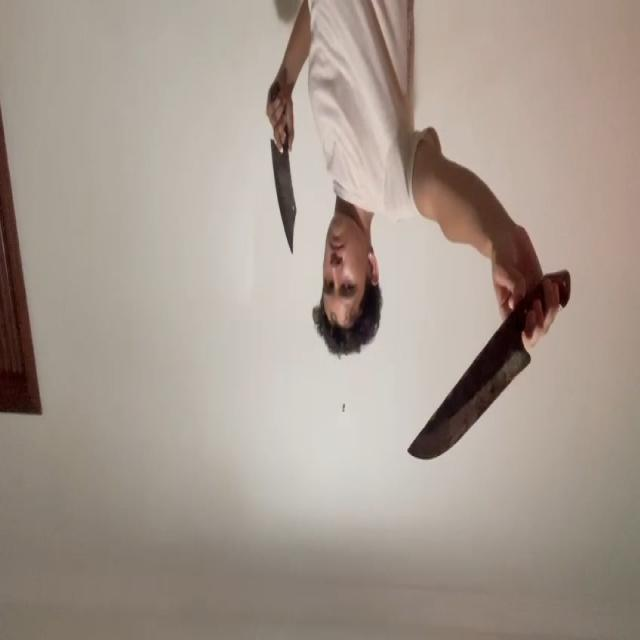knife: (408, 343, 532, 459), (270, 139, 298, 254)
